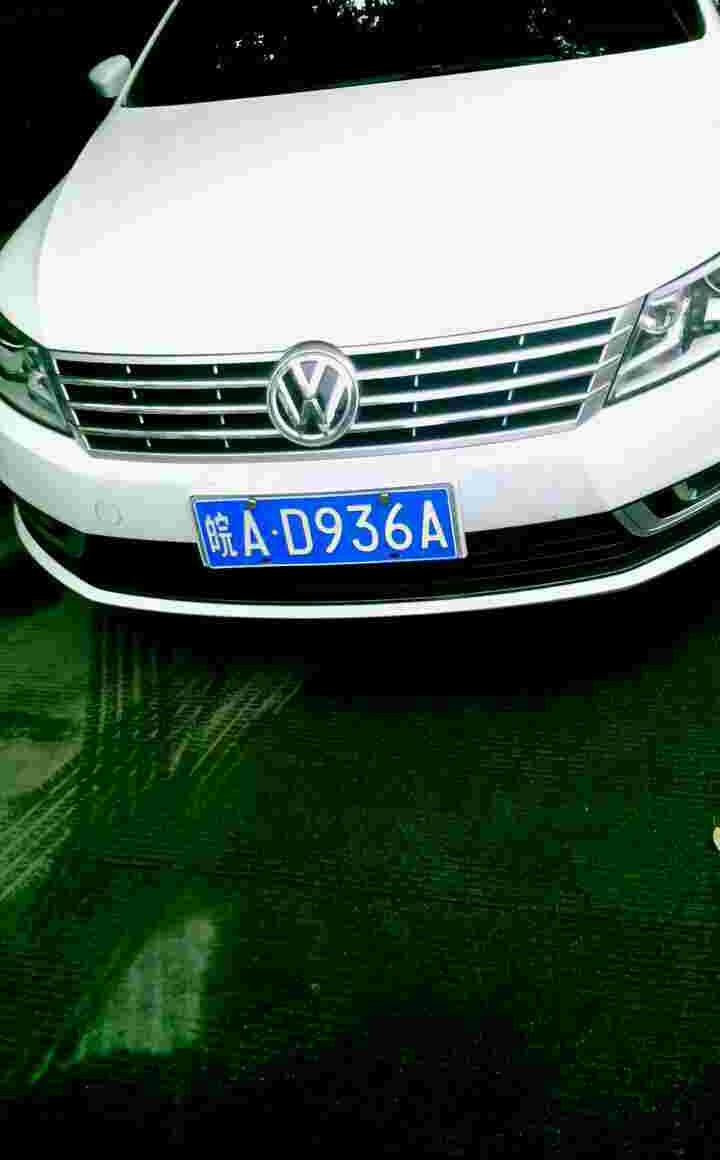license_plate: (202, 483, 465, 572)
